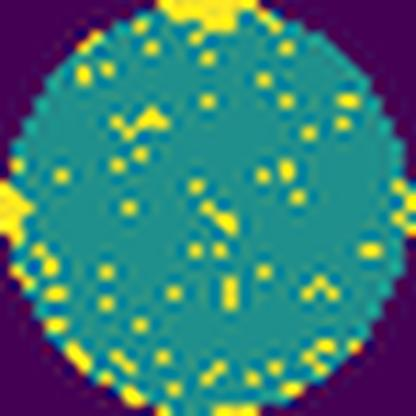Edge-Loc: (153, 0, 258, 52), (0, 173, 35, 250)
